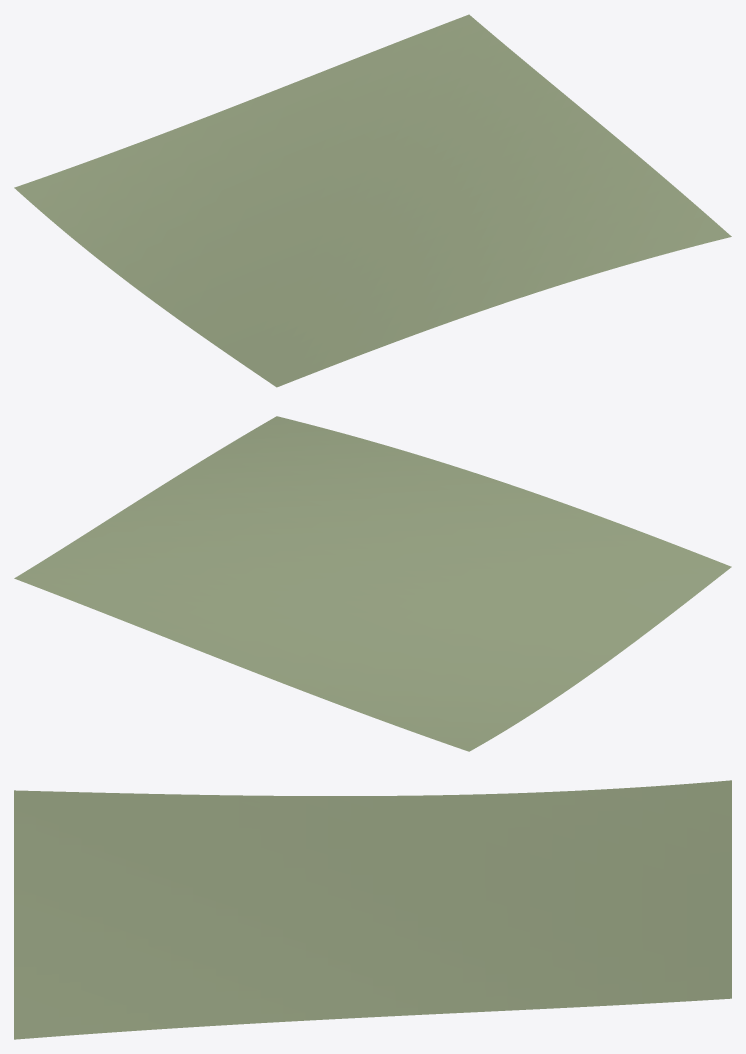
Rendered from alpine-12-14.glb.
The picture shows the model from 3 angles, top to bottom: view 1: azimuth 30°, elevation 25°; view 2: azimuth 150°, elevation 25°; view 3: azimuth 270°, elevation 25°; orthographic projection. The views are drawn at different scales.
Parts seen in each view (by area): view 1: alpine-12-14; view 2: alpine-12-14; view 3: alpine-12-14.
Boxes of the visible parts, bbox=[...] form: alpine-12-14: bbox=[14, 14, 731, 387]; alpine-12-14: bbox=[14, 416, 731, 751]; alpine-12-14: bbox=[14, 780, 731, 1039].
Bounding box in the file's own units: 256 × 39.68 × 256.
